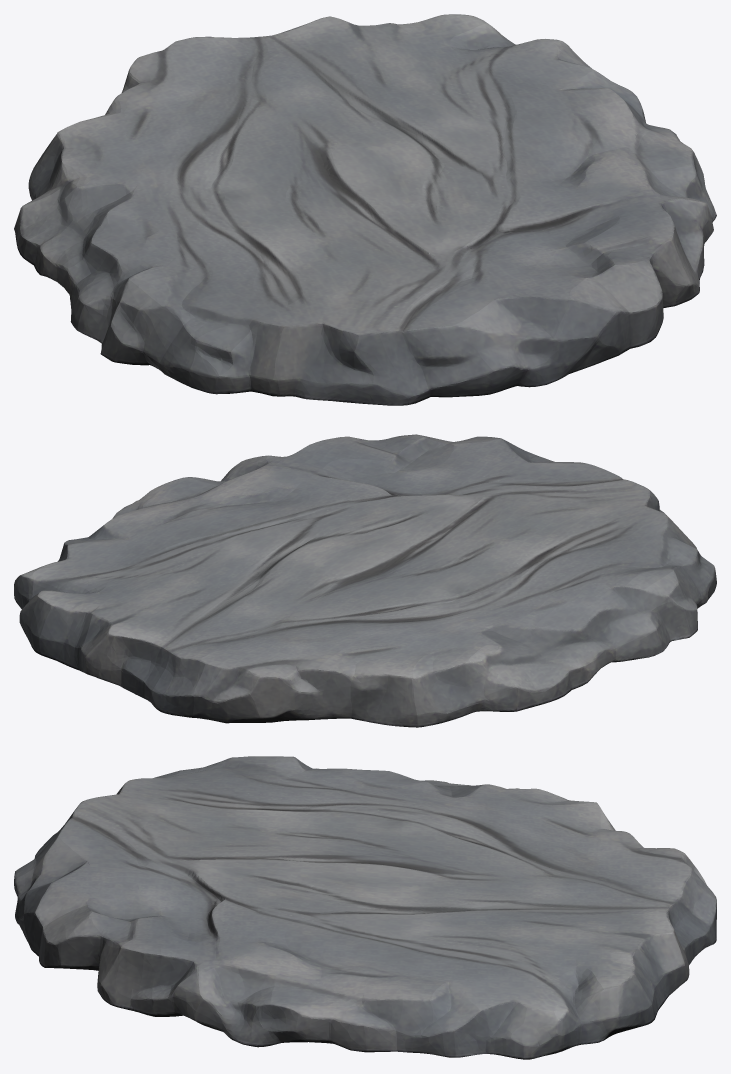
3 views of the same model, one above another, from view 1: azimuth 30°, elevation 25°; view 2: azimuth 150°, elevation 25°; view 3: azimuth 270°, elevation 25° (orthographic). The views are drawn at different scales.
Parts seen in each view (by area): view 1: world; view 2: world; view 3: world.
Part boxes in pixels (x1,y1,x2,y2): world: (14,14,716,405); world: (14,434,716,727); world: (14,756,716,1059).
Size of the model in its own units: 11.98 by 1.11 by 12.8.
Materials: 1 (1 with a texture image).
